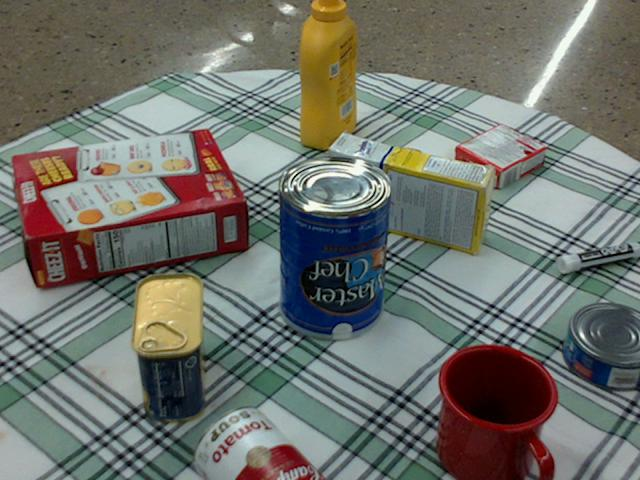cracker_box: (12, 130, 244, 287)
gelatin_box: (453, 124, 545, 189)
large_marker: (558, 241, 639, 272)
master_chef_can: (279, 155, 392, 338)
mug: (435, 344, 557, 479)
mustard_bottle: (298, 0, 355, 148)
potted_meat_can: (131, 273, 205, 421)
sugar_box: (326, 134, 495, 254)
tomato_soup_can: (193, 407, 322, 479)
tuna_fish_can: (563, 303, 639, 390)
